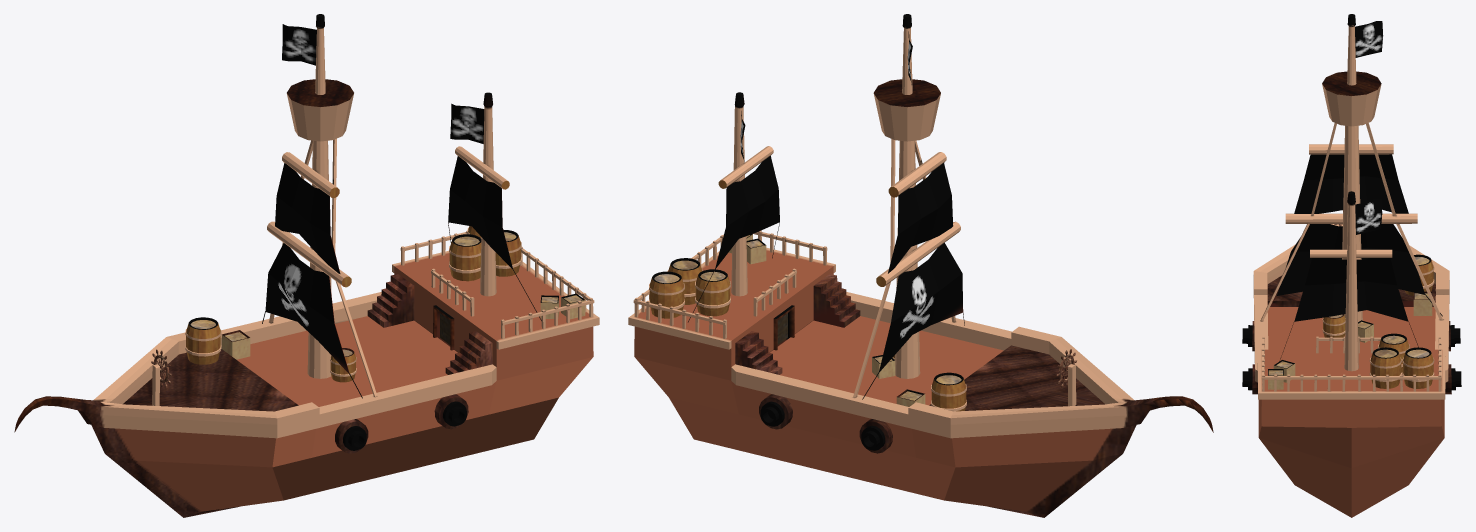
Rendered from pirateship.glb.
3 views of the same model, side by side, from view 1: azimuth 30°, elevation 25°; view 2: azimuth 150°, elevation 25°; view 3: azimuth 270°, elevation 25° (orthographic). The views are drawn at different scales.
Visible parts, largest first — view 1: Cube; view 2: Cube; view 3: Cube.
Part boxes in pixels (left/top/right/bottom): Cube: left=14, top=14, right=599, bottom=517; Cube: left=628, top=14, right=1213, bottom=517; Cube: left=1242, top=14, right=1461, bottom=517.
Bounding box in the file's own units: 9.69 × 8.05 × 3.84.
1 material, 1 textured.
